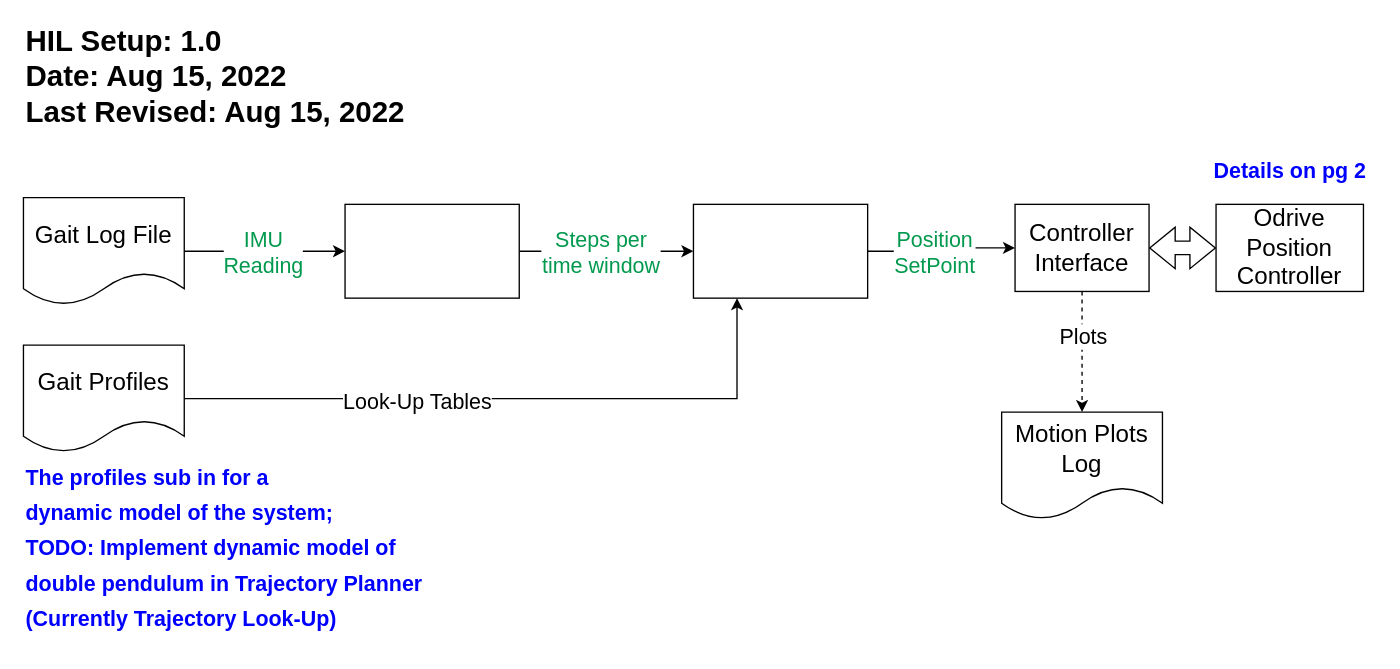
This 1400x669 diagram has some shape labels left out. The shapes that lost their labels are listed below. From the top down, each one's centre as x and y in pixels, then its label:
At [431,250]: "Cadence Tracker".
At [780,250]: "Trajectory Look-Up".
